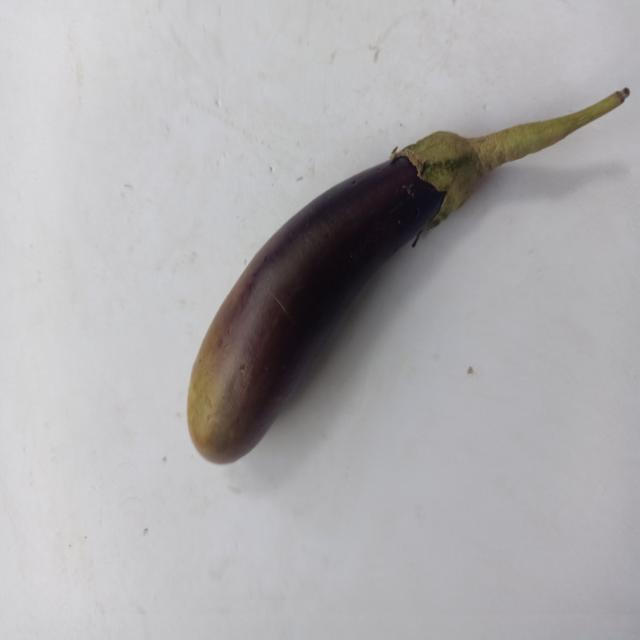Brinjal: (146, 52, 640, 475)
